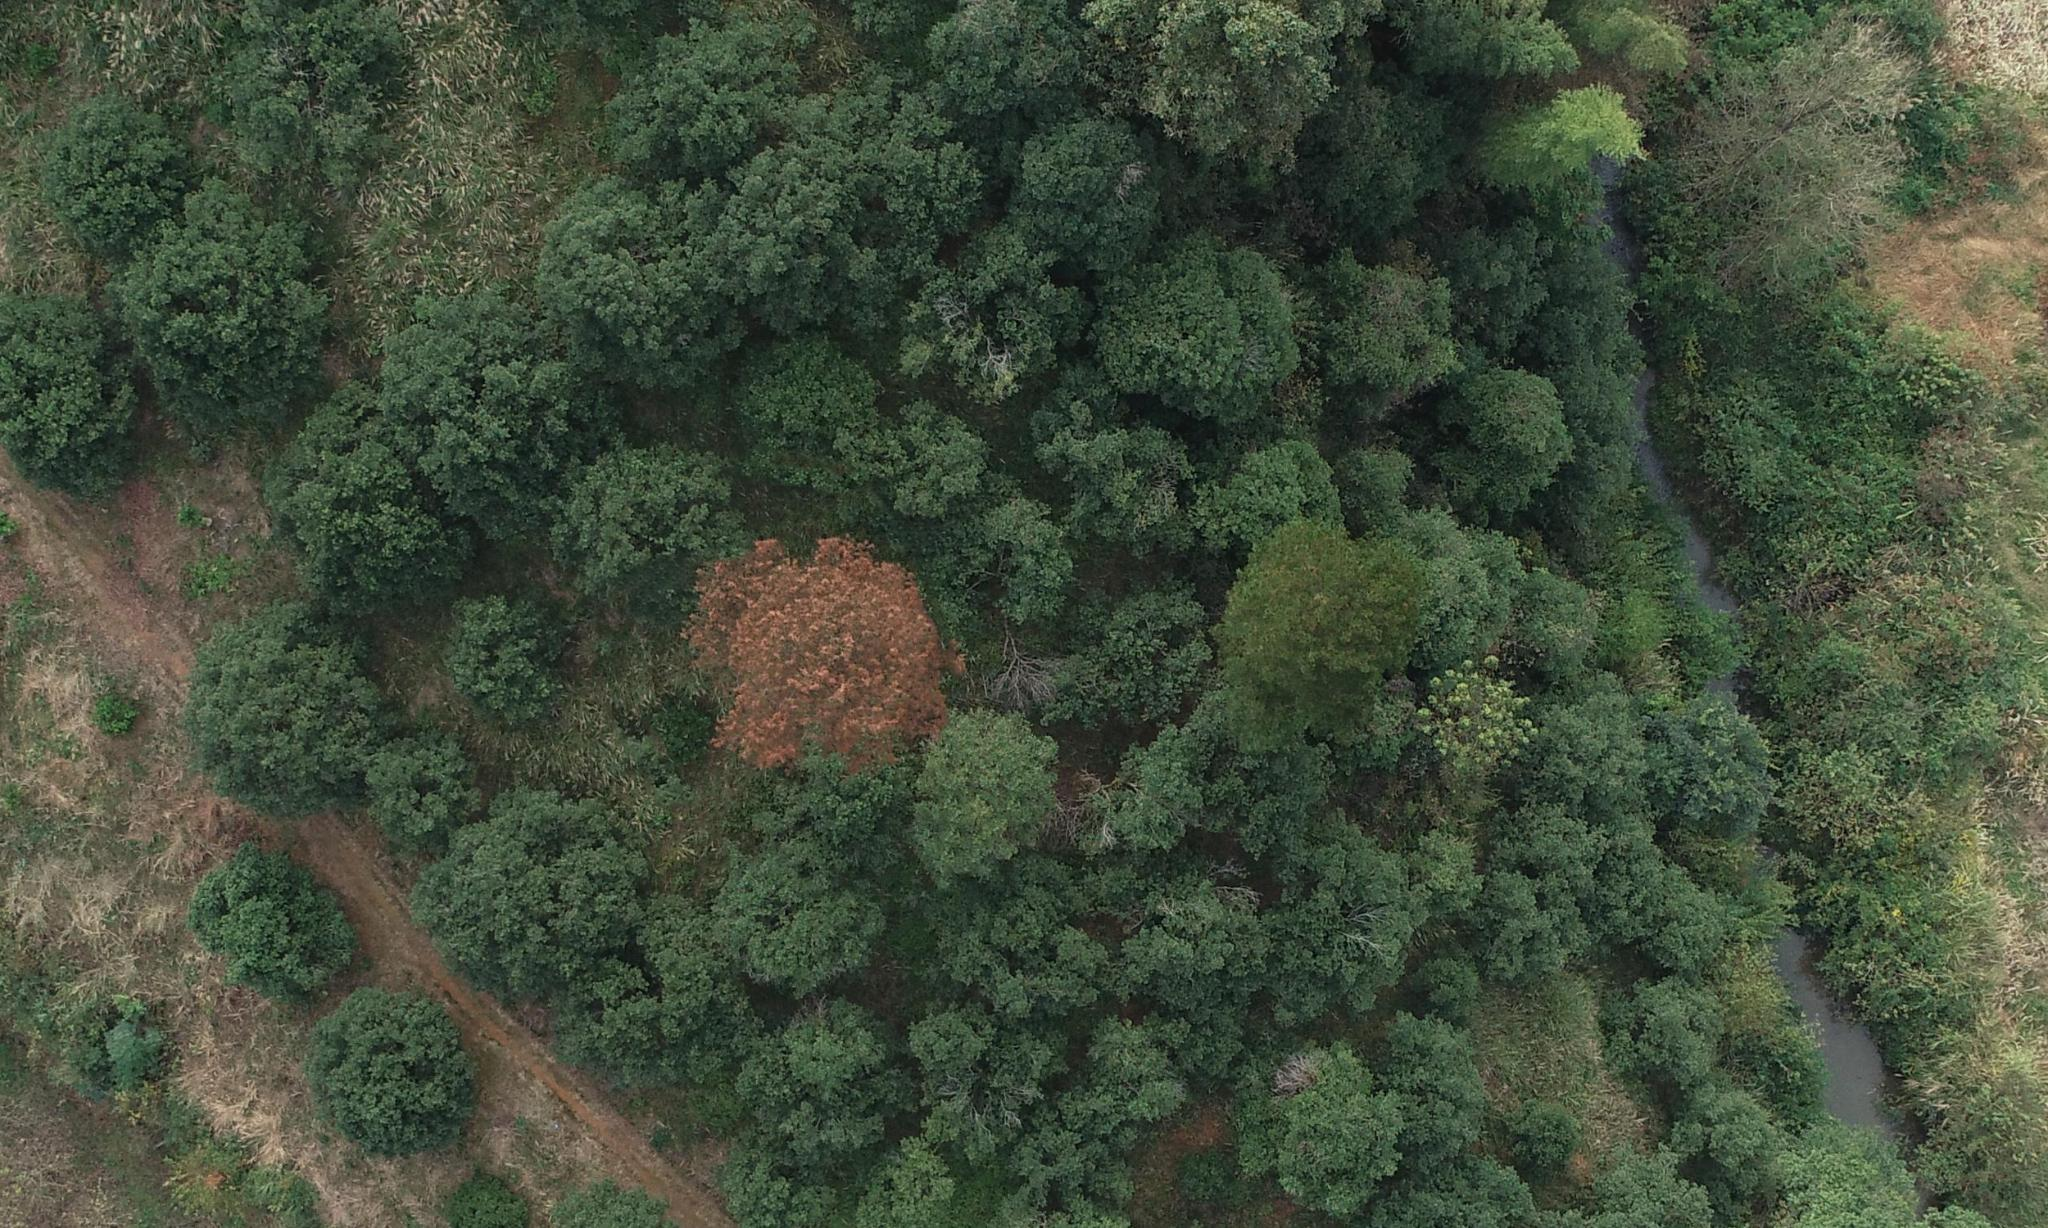dead: (941, 306, 1025, 384), (1051, 776, 1137, 848), (987, 618, 1051, 713)
heavy: (681, 556, 956, 765)
